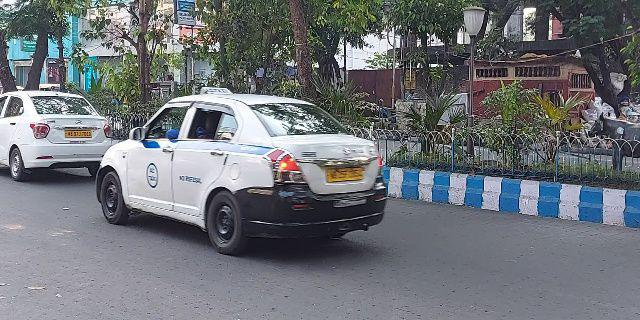Car: (95, 84, 389, 255), (1, 89, 113, 181)
